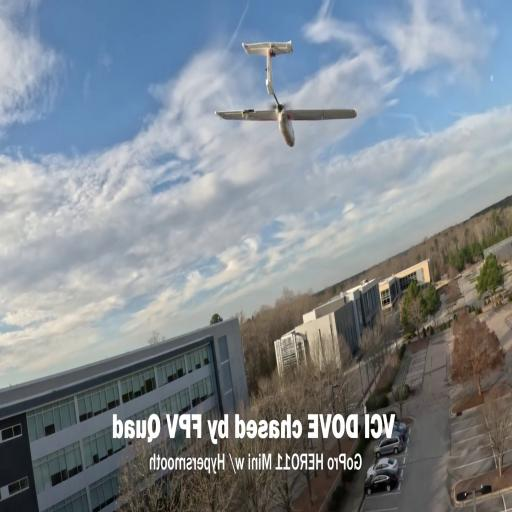uav: (214, 37, 360, 152)
